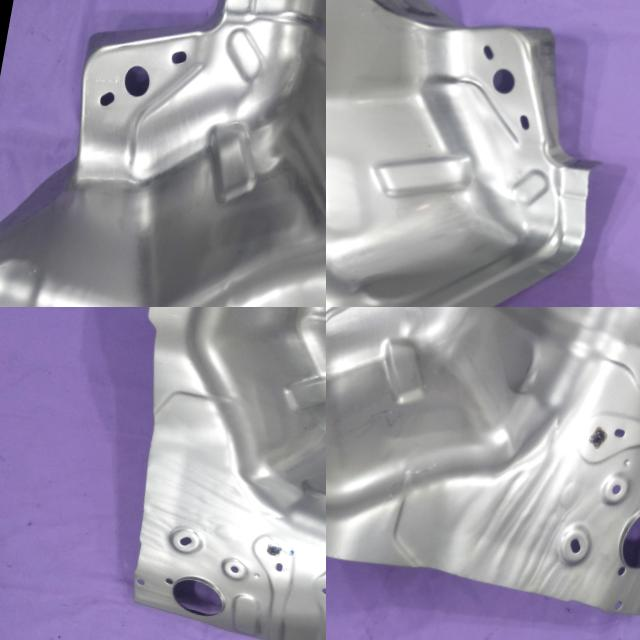Healthy: (326, 307, 640, 634), (326, 0, 634, 307), (90, 307, 326, 640)
